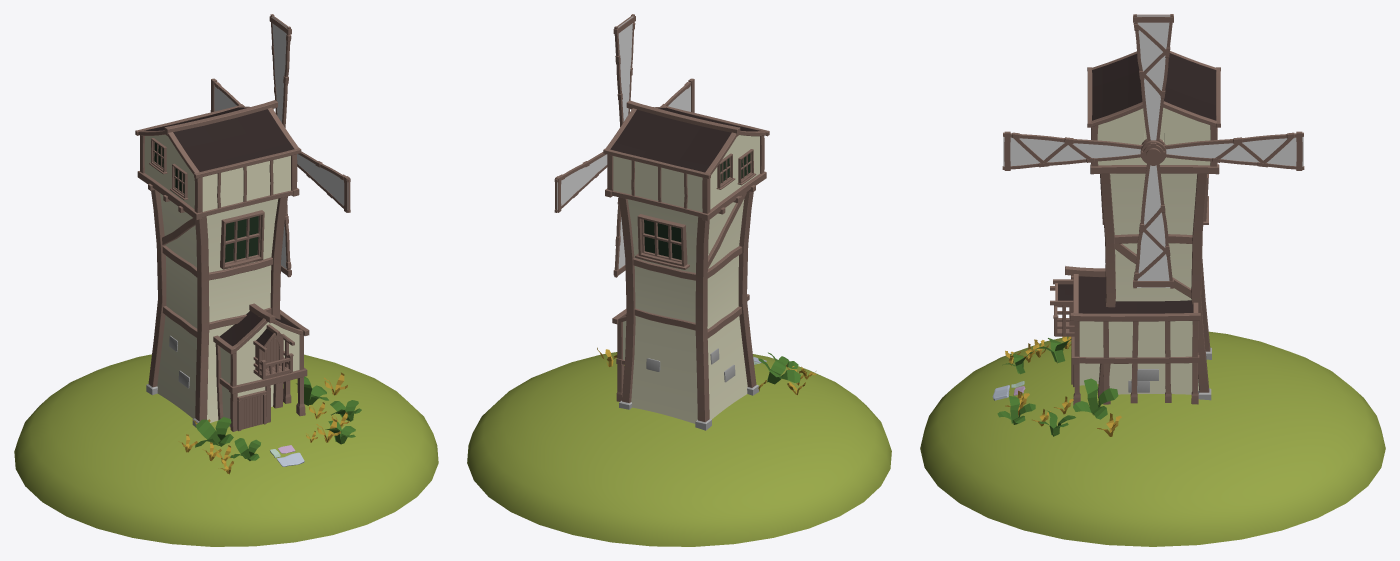
Rendered from wind_mill.glb.
3 views of the same model, side by side, from view 1: azimuth 30°, elevation 25°; view 2: azimuth 150°, elevation 25°; view 3: azimuth 270°, elevation 25° (orthographic). The views are drawn at different scales.
Parts seen in each view (by area): view 1: Sphere_120, baseDown, Plane.017_123; view 2: Sphere_120, baseDown, Plane.017_123; view 3: Sphere_120, baseDown, Plane.018_124.
Boxes of the visible parts, x1,y1,x2,y2 form: Sphere_120: (14, 354, 438, 546); baseDown: (135, 14, 350, 431); Plane.017_123: (195, 417, 233, 447); Sphere_120: (467, 352, 891, 546); baseDown: (554, 14, 769, 430); Plane.017_123: (758, 358, 800, 384); Sphere_120: (920, 331, 1385, 546); baseDown: (1002, 14, 1304, 405); Plane.018_124: (1073, 378, 1118, 419).
Bounding box in the file's own units: 10.02 × 10.99 × 10.02.
